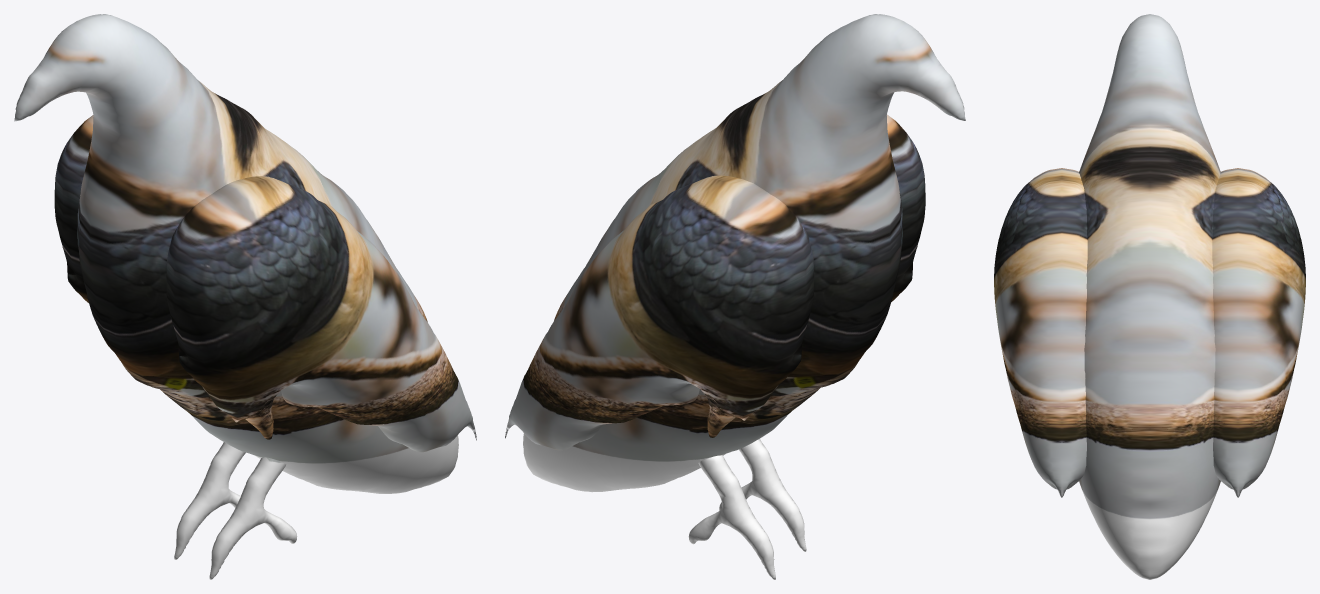
File: Nicobar Pigeon.obj
3 views of the same model, side by side, from view 1: azimuth 30°, elevation 25°; view 2: azimuth 150°, elevation 25°; view 3: azimuth 270°, elevation 25° (orthographic). The views are drawn at different scales.
Visible parts, largest first — view 1: Mesh_0; view 2: Mesh_0; view 3: Mesh_0.
Part boxes in pixels (bbox=[...]): Mesh_0: bbox=[14, 14, 476, 579]; Mesh_0: bbox=[505, 14, 965, 579]; Mesh_0: bbox=[994, 14, 1305, 579].
Size of the model in its own units: 5.19 by 6.5 by 4.04.
